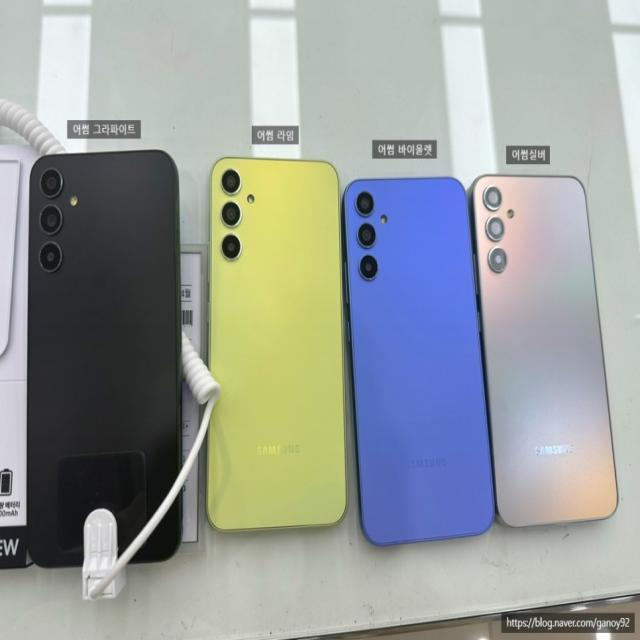phone: (210, 158, 349, 530)
